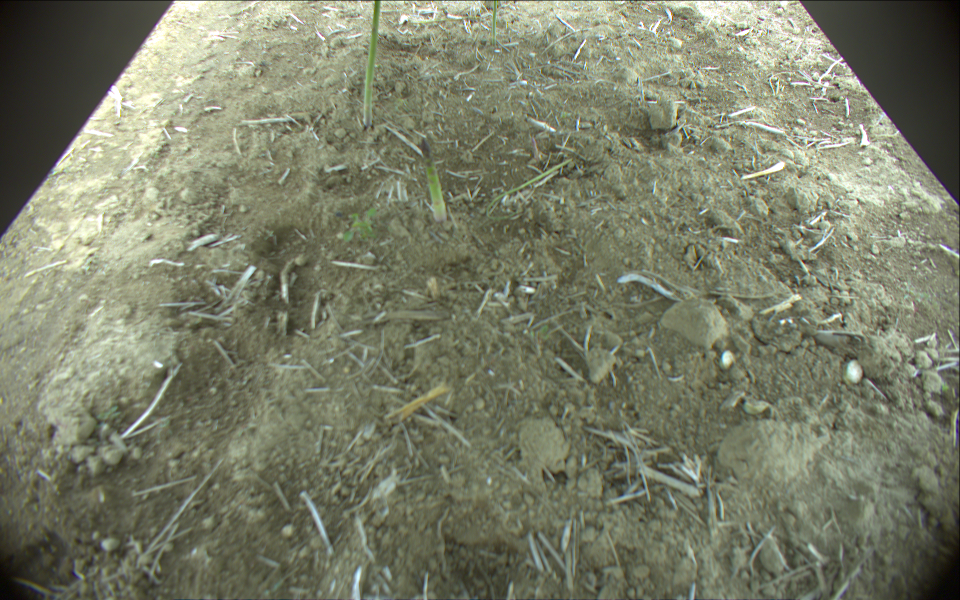aspa: (488, 157, 578, 216), (417, 133, 450, 223), (362, 1, 382, 127), (491, 1, 499, 42)
